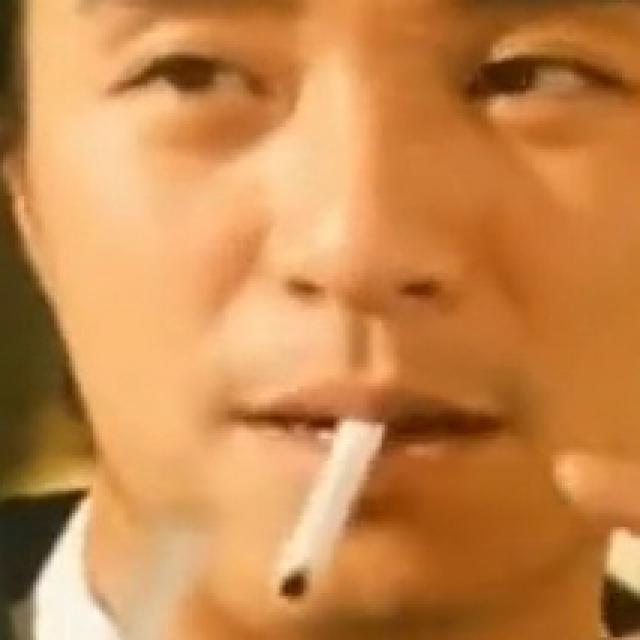smoking: (278, 418, 388, 605)
